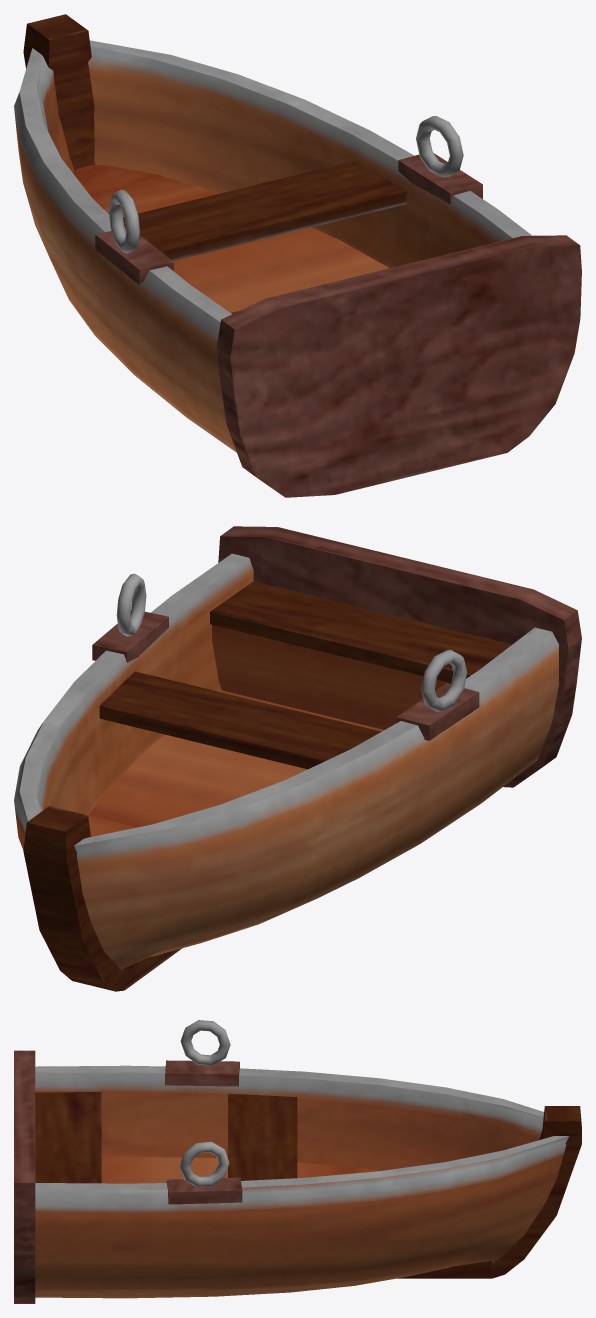
The model's file is barque-1.glb.
3 renders of one model, top to bottom at view 1: azimuth 30°, elevation 25°; view 2: azimuth 150°, elevation 25°; view 3: azimuth 270°, elevation 25°, orthographic. The views are drawn at different scales.
Visible parts, largest first — view 1: boat_Material #25_0; view 2: boat_Material #25_0; view 3: boat_Material #25_0.
Boxes of the visible parts, x1=… form: boat_Material #25_0: x1=14, y1=14, x2=581, y2=497; boat_Material #25_0: x1=14, y1=526, x2=581, y2=991; boat_Material #25_0: x1=14, y1=1020, x2=581, y2=1303.
Size of the model in its own units: 35.63 by 23.19 by 63.58.
Materials: 1 (1 with a texture image).
